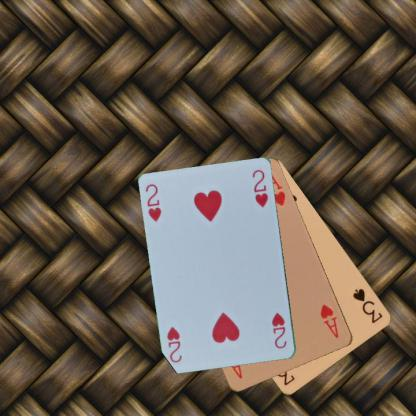2h: (143, 182, 163, 224), (270, 310, 288, 350)
3s: (350, 286, 384, 325)
Ah: (318, 302, 340, 340)
